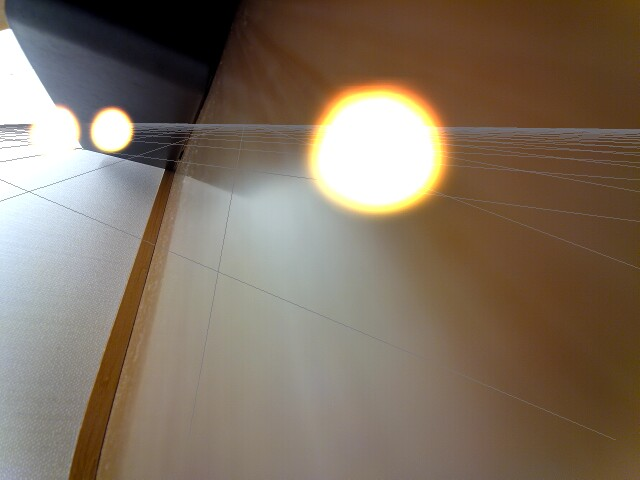firebig: (291, 73, 456, 230)
